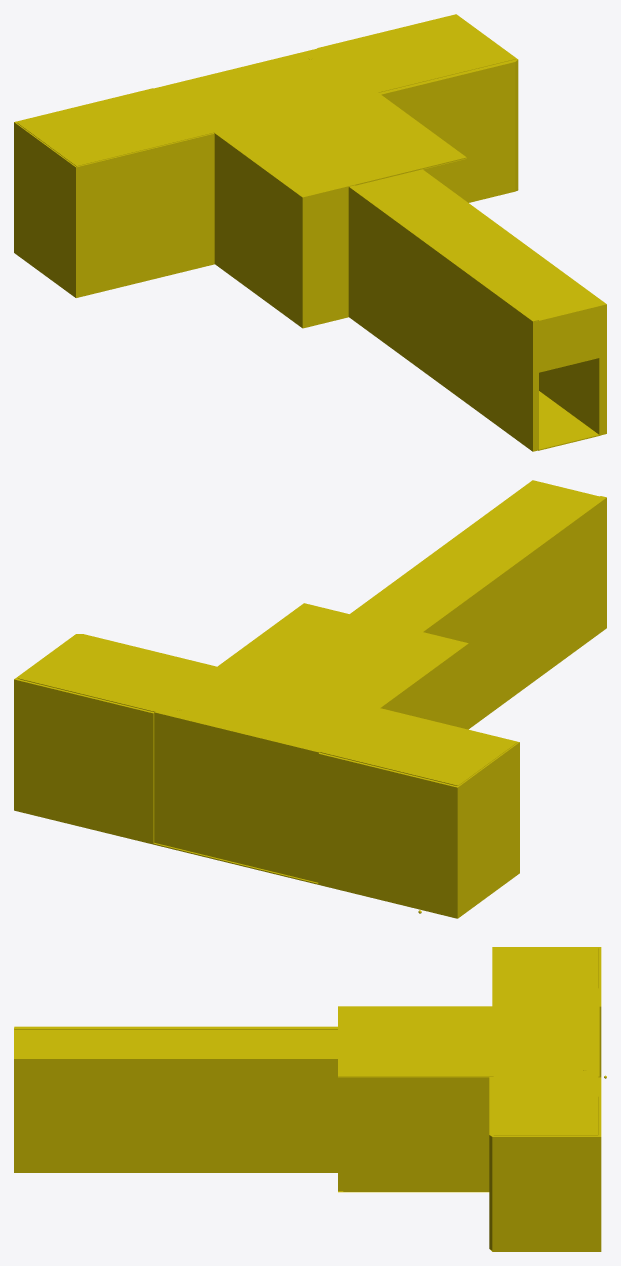
The model's file is GalleryRoom.obj.
3 views of the same model, one above another, from view 1: azimuth 30°, elevation 25°; view 2: azimuth 150°, elevation 25°; view 3: azimuth 270°, elevation 25° (orthographic). The views are drawn at different scales.
Visible parts, largest first — view 1: polySurface28; view 2: polySurface28; view 3: polySurface28.
Boxes of the visible parts, x1,y1,x2,y2 form: polySurface28: (14,14,606,451); polySurface28: (14,480,606,918); polySurface28: (14,947,606,1251).
Size of the model in its own units: 311 by 89.7 by 410.
